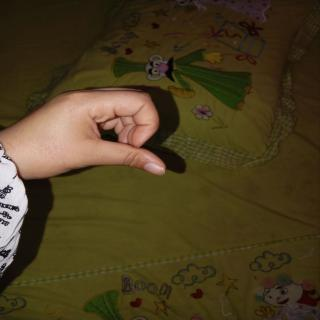WAW: (4, 73, 178, 201)
